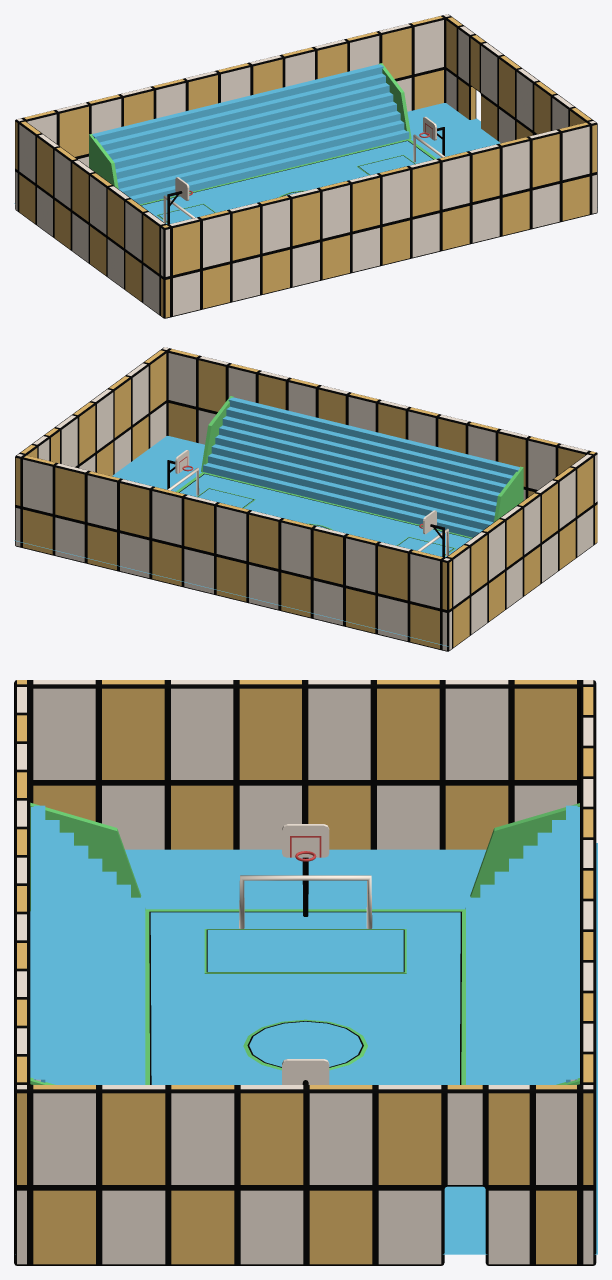
Rendered from QuadraEscolafbx.fbx.
3 renders of one model, top to bottom at view 1: azimuth 30°, elevation 25°; view 2: azimuth 150°, elevation 25°; view 3: azimuth 270°, elevation 25°, orthographic. The views are drawn at different scales.
Parts seen in each view (by area): view 1: Quadra; view 2: Quadra; view 3: Quadra.
Part boxes in pixels (x1,y1,x2,y2): Quadra: (14,14,597,318); Quadra: (14,347,597,651); Quadra: (14,680,597,1265).
Bounding box in the file's own units: 6000 × 1200 × 3596.
